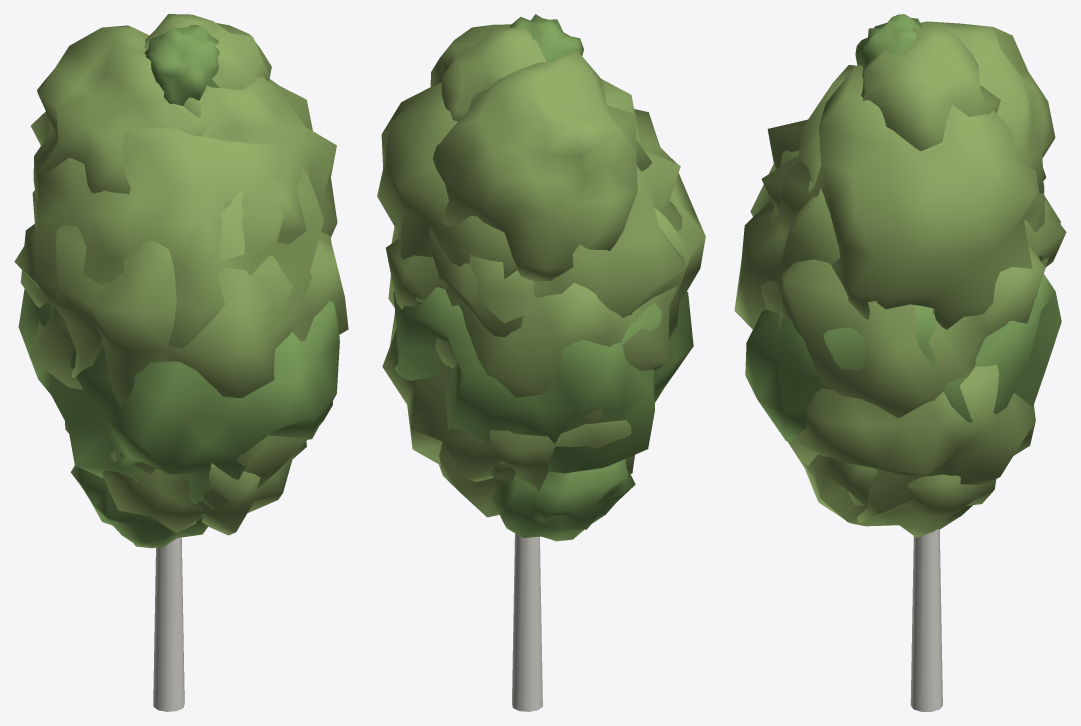
File: tree_tall.glb
3 views of the same model, side by side, from view 1: azimuth 30°, elevation 25°; view 2: azimuth 150°, elevation 25°; view 3: azimuth 270°, elevation 25° (orthographic).
Parts seen in each view (by area): view 1: Canopy, Trunk; view 2: Canopy, Trunk; view 3: Canopy, Trunk.
Part boxes in pixels (bbox=[...]): Canopy: bbox=[14, 14, 348, 548]; Trunk: bbox=[153, 537, 184, 711]; Canopy: bbox=[377, 14, 705, 541]; Trunk: bbox=[512, 533, 542, 711]; Canopy: bbox=[734, 14, 1066, 537]; Trunk: bbox=[910, 529, 942, 711].
Bounding box in the file's own units: 2.98 × 6.59 × 2.88.
